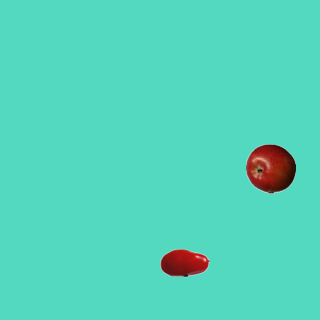Apple Braeburn: (245, 143, 295, 193)
Tomato 2: (159, 237, 209, 287)
